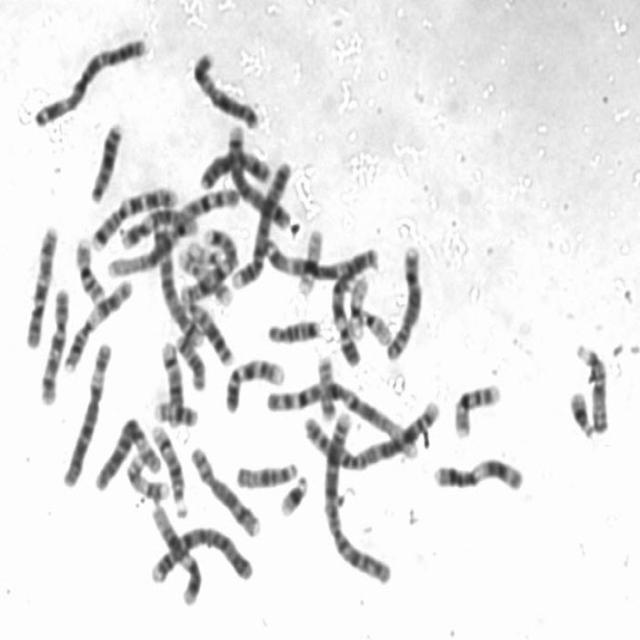A1: (263, 374, 428, 462), (101, 181, 241, 280)
A2: (316, 401, 396, 587), (295, 392, 442, 472)
A3: (31, 29, 151, 129), (256, 232, 378, 282)
B4: (227, 153, 295, 292), (147, 519, 255, 586)
B5: (148, 216, 209, 347), (223, 120, 292, 231)
C10: (20, 218, 60, 350), (35, 280, 73, 408)
C11: (58, 272, 135, 373), (428, 451, 526, 494)
C12: (147, 496, 205, 608), (115, 204, 204, 252)
C6: (58, 336, 115, 489), (90, 412, 163, 494)
C7: (85, 178, 180, 252), (175, 223, 240, 306)
C8: (185, 439, 263, 538), (382, 238, 426, 363)
C9: (328, 266, 369, 370), (222, 352, 288, 414)
D13: (182, 293, 237, 367), (86, 115, 125, 206)
D14: (145, 418, 188, 520), (158, 334, 189, 428)
D15: (571, 335, 612, 437), (233, 456, 301, 490)
E16: (451, 377, 504, 440), (70, 232, 107, 305)
E17: (175, 228, 238, 306), (122, 448, 171, 502)
E18: (172, 328, 208, 392), (263, 312, 322, 346)
F19: (293, 224, 325, 299), (345, 268, 371, 341)
F20: (313, 350, 337, 422), (150, 394, 200, 428)
G21: (564, 383, 596, 440), (276, 468, 310, 518)
G22: (352, 302, 393, 346), (181, 238, 224, 268)
X: (189, 44, 263, 130), (198, 145, 276, 191)
